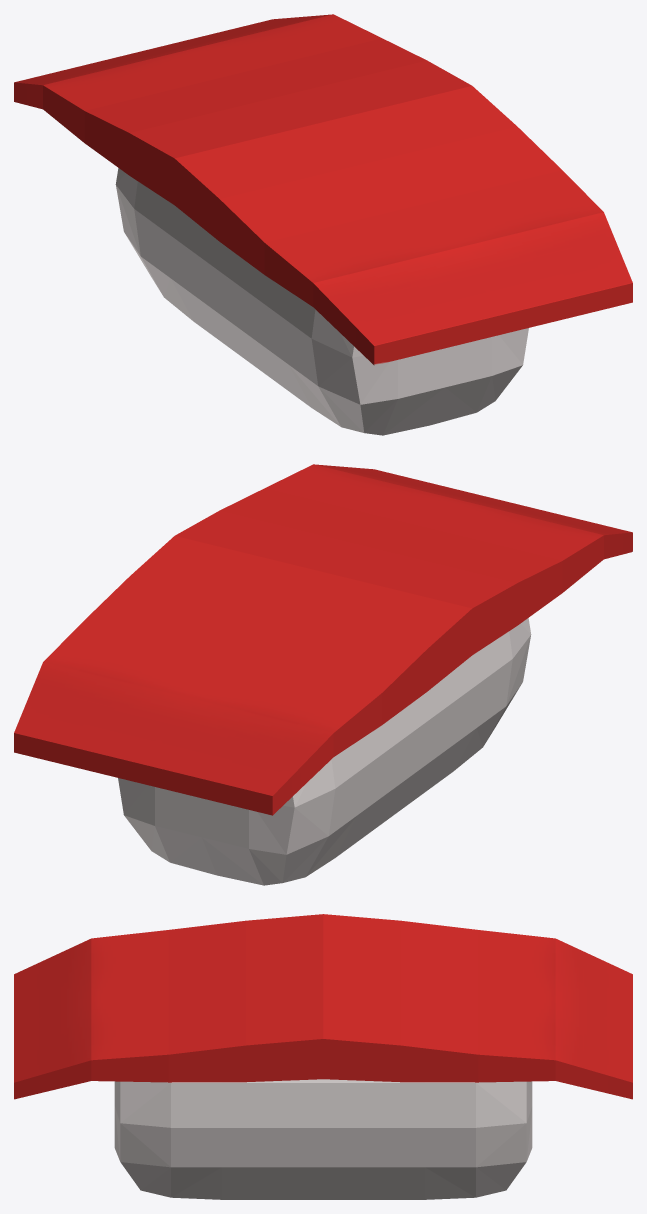
The model's file is player.obj.
3 renders of one model, top to bottom at view 1: azimuth 30°, elevation 25°; view 2: azimuth 150°, elevation 25°; view 3: azimuth 270°, elevation 25°, orthographic. The views are drawn at different scales.
Visible parts, largest first — view 1: 立方体; view 2: 立方体; view 3: 立方体.
Part boxes in pixels (x1=…): 立方体: x1=14, y1=14, x2=632, y2=435; 立方体: x1=14, y1=464, x2=632, y2=885; 立方体: x1=14, y1=914, x2=632, y2=1199.
Size of the model in its own units: 1.87 by 1.36 by 3.93.
Materials: 2 (2 with a texture image).
